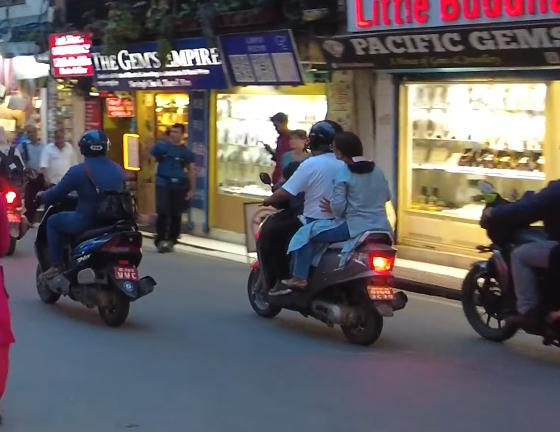scooter: (241, 167, 409, 348), (26, 169, 156, 331)
